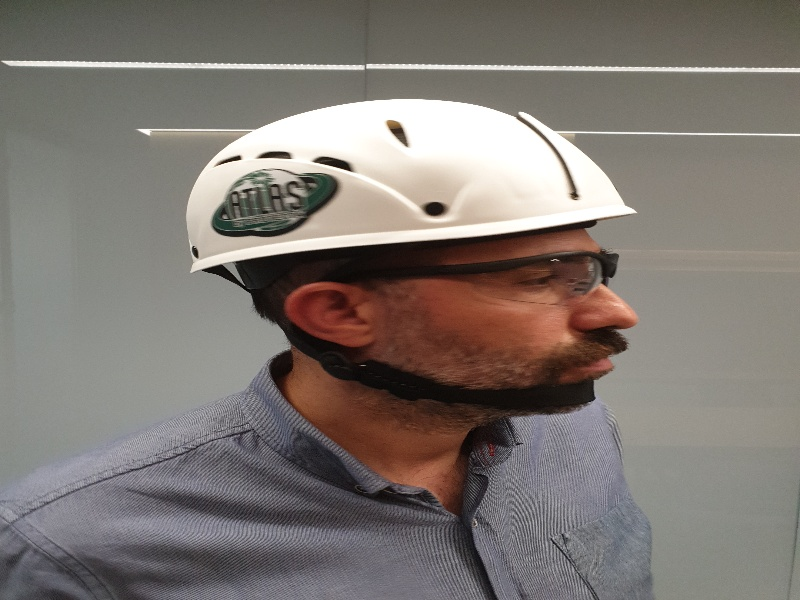Baret: (187, 98, 637, 251)
Gozluk: (332, 248, 618, 304)
